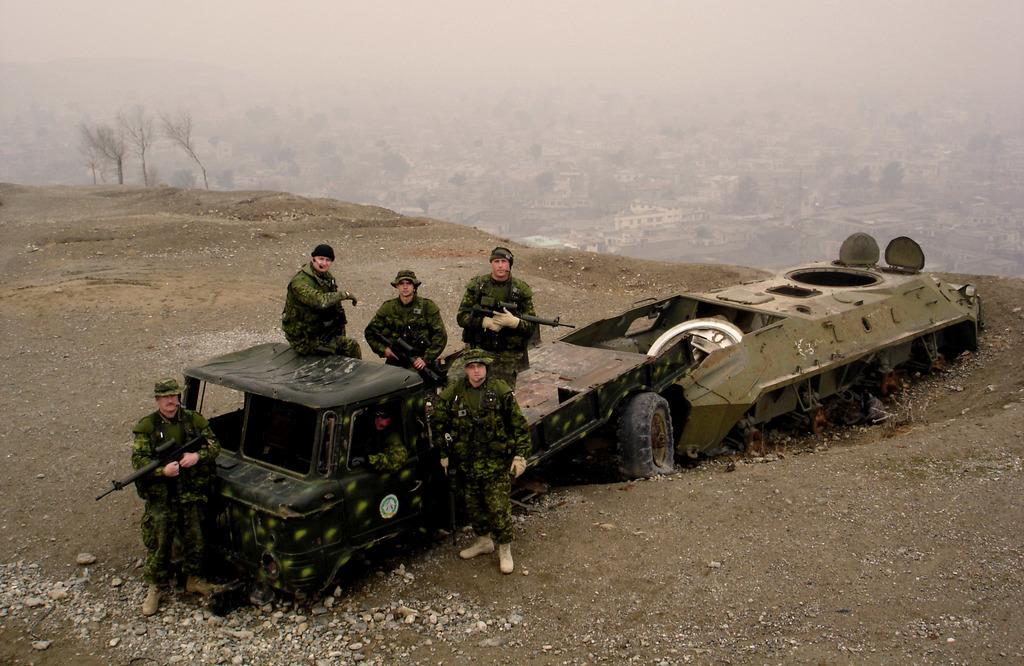non-violence: (438, 353, 536, 577), (134, 379, 226, 613), (459, 246, 545, 397), (281, 240, 363, 360), (366, 267, 445, 381)
weapon: (95, 425, 206, 496), (359, 327, 441, 407), (431, 405, 467, 553), (461, 302, 581, 330)
